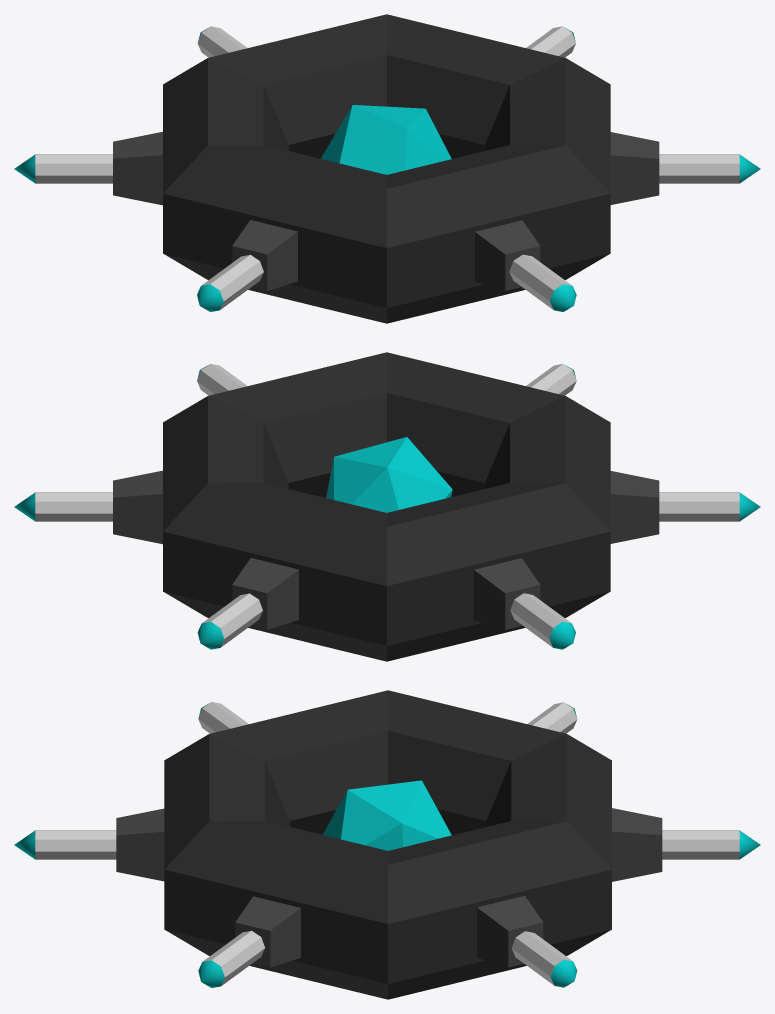
Rendered from Abaddon.fbx.
3 views of the same model, one above another, from view 1: azimuth 30°, elevation 25°; view 2: azimuth 150°, elevation 25°; view 3: azimuth 270°, elevation 25° (orthographic).
Parts seen in each view (by area): view 1: pTorus1, pPlatonic1, pCube4, pCube3, pCube1, pCube5, pCylinder3, pCylinder4, pCylinder5, pCylinder1, pCylinder2, pCylinder6; view 2: pTorus1, pPlatonic1, pCube4, pCube6, pCube2, pCube1, pCylinder1, pCylinder2, pCylinder4, pCylinder6, pCylinder5, pCylinder3; view 3: pTorus1, pPlatonic1, pCube6, pCube2, pCube3, pCube5, pCylinder5, pCylinder6, pCylinder3, pCylinder2, pCylinder1, pCylinder4.
Part boxes in pixels (x1,y1,x2,y2): pTorus1: [163, 14, 610, 323]; pPlatonic1: [321, 105, 451, 174]; pCube4: [113, 131, 162, 205]; pCube3: [610, 132, 659, 204]; pCube1: [232, 220, 297, 290]; pCube5: [475, 220, 540, 290]; pCylinder3: [659, 154, 760, 183]; pCylinder4: [14, 154, 112, 183]; pCylinder5: [509, 254, 576, 311]; pCylinder1: [197, 254, 263, 311]; pCylinder2: [526, 26, 575, 57]; pCylinder6: [197, 26, 247, 57]; pTorus1: [163, 352, 610, 661]; pPlatonic1: [326, 437, 452, 512]; pCube4: [473, 558, 540, 629]; pCube6: [232, 558, 298, 629]; pCube2: [113, 470, 162, 544]; pCube1: [610, 471, 659, 543]; pCylinder1: [659, 492, 760, 521]; pCylinder2: [14, 492, 112, 521]; pCylinder4: [510, 593, 575, 649]; pCylinder6: [197, 593, 262, 649]; pCylinder5: [526, 364, 576, 395]; pCylinder3: [197, 364, 247, 395]; pTorus1: [164, 690, 611, 999]; pPlatonic1: [322, 780, 451, 850]; pCube6: [612, 808, 662, 881]; pCube2: [477, 895, 543, 967]; pCube3: [235, 896, 300, 967]; pCube5: [116, 808, 164, 881]; pCylinder5: [14, 830, 116, 859]; pCylinder6: [662, 830, 760, 859]; pCylinder3: [198, 930, 264, 987]; pCylinder2: [511, 931, 577, 987]; pCylinder1: [198, 702, 248, 733]; pCylinder4: [527, 702, 577, 733].
Bounding box in the file's own units: 8.84 × 2.03 × 10.19.
